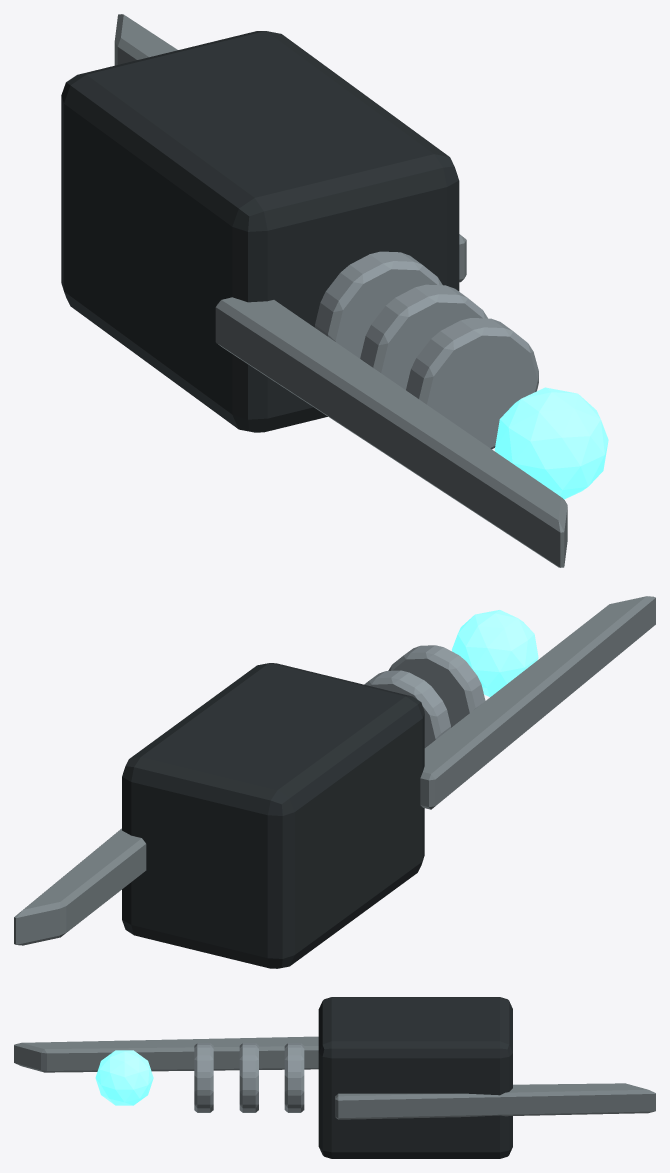
Rendered from weapon_arc.glb.
3 renders of one model, top to bottom at view 1: azimuth 30°, elevation 25°; view 2: azimuth 150°, elevation 25°; view 3: azimuth 270°, elevation 25°, orthographic. The views are drawn at different scales.
Parts seen in each view (by area): view 1: housing, prong_-1, insulator_2, weapon_arc, insulator_0, insulator_1, prong_1; view 2: housing, prong_-1, prong_1, weapon_arc, insulator_2, insulator_1; view 3: housing, prong_1, prong_-1, weapon_arc, insulator_0, insulator_1, insulator_2.
Boxes of the visible parts, <box> form: housing: <box>61,31,459,432</box>; prong_-1: <box>215,297,567,567</box>; insulator_2: <box>406,318,538,448</box>; weapon_arc: <box>494,387,608,499</box>; insulator_0: <box>315,251,442,358</box>; insulator_1: <box>360,284,487,389</box>; prong_1: <box>114,14,466,282</box>; housing: <box>122,663,424,968</box>; prong_-1: <box>420,596,655,809</box>; prong_1: <box>14,828,146,945</box>; weapon_arc: <box>452,610,538,696</box>; insulator_2: <box>388,645,485,727</box>; insulator_1: <box>364,670,450,747</box>; housing: <box>318,997,512,1158</box>; prong_1: <box>335,1083,655,1119</box>; prong_-1: <box>14,1036,318,1072</box>; weapon_arc: <box>95,1050,153,1105</box>; insulator_0: <box>284,1043,304,1112</box>; insulator_1: <box>239,1043,258,1112</box>; insulator_2: <box>194,1043,213,1112</box>.
Size of the model in its own units: 0.918 by 0.8 by 3.97.
